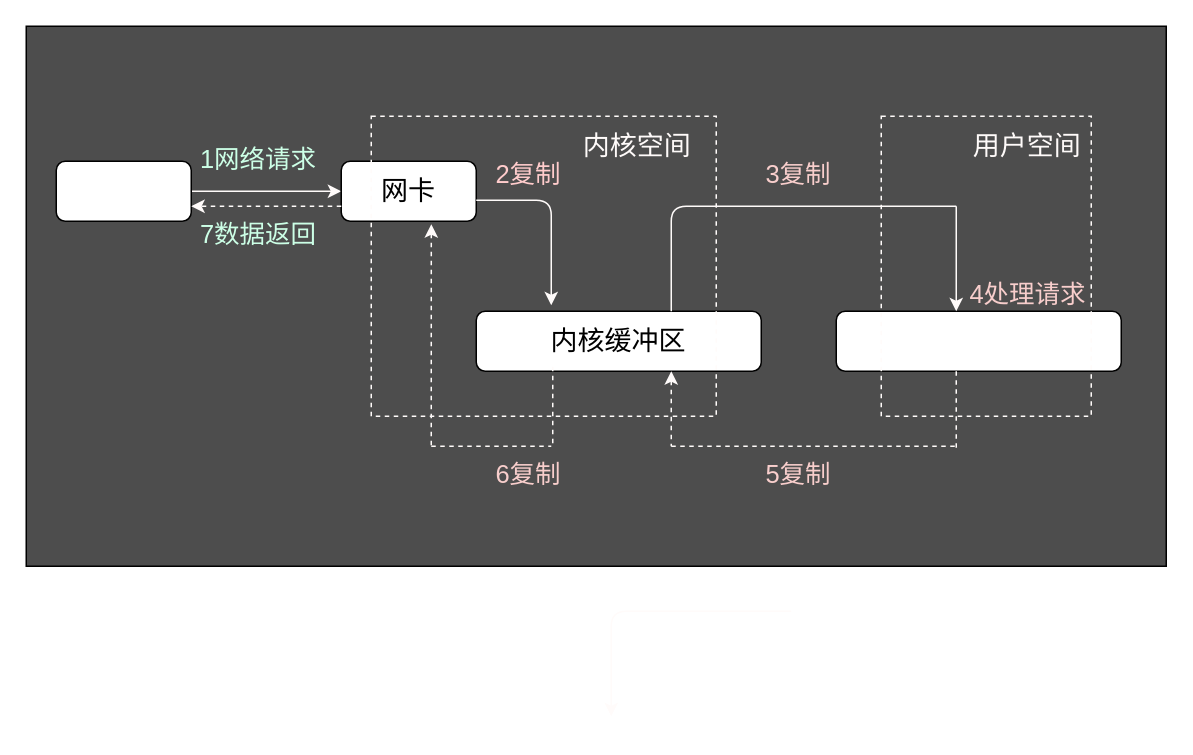
This 1193x755 diagram has some shape labels left out. Here are the shapes that lost their labels. From the top down, the centre of each, then its label:
At [123,190]: "Client".
At [978,340]: "服务器进程".
